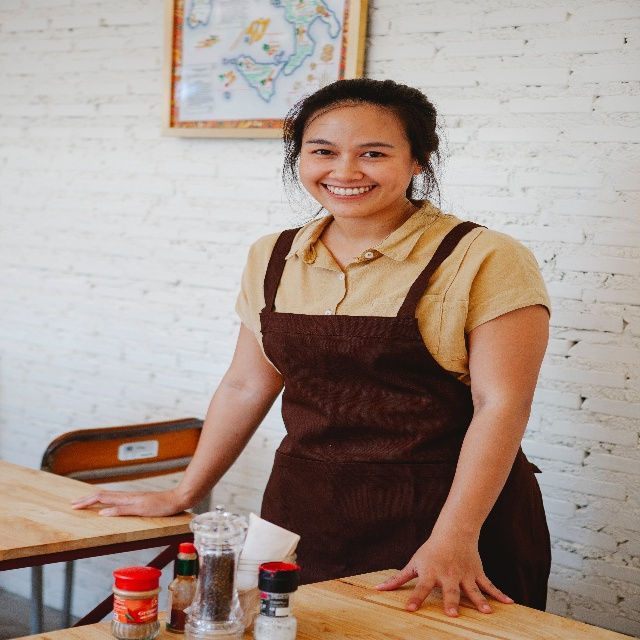Sin_guantes: (373, 529, 514, 622), (70, 489, 187, 518)
